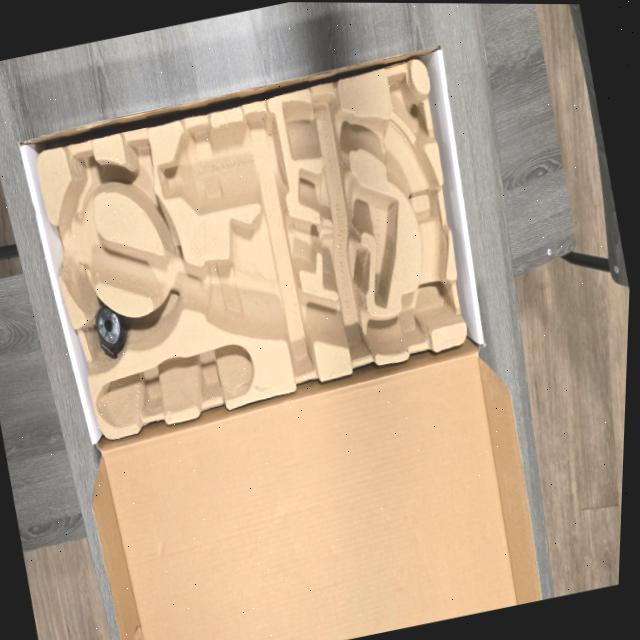1m: (50, 107, 446, 351)
2m: (299, 173, 396, 305)
3m: (158, 120, 286, 213)
4m: (96, 347, 253, 428)
5: (94, 303, 123, 359)
6m: (70, 150, 99, 210)
7m: (125, 143, 153, 207)
